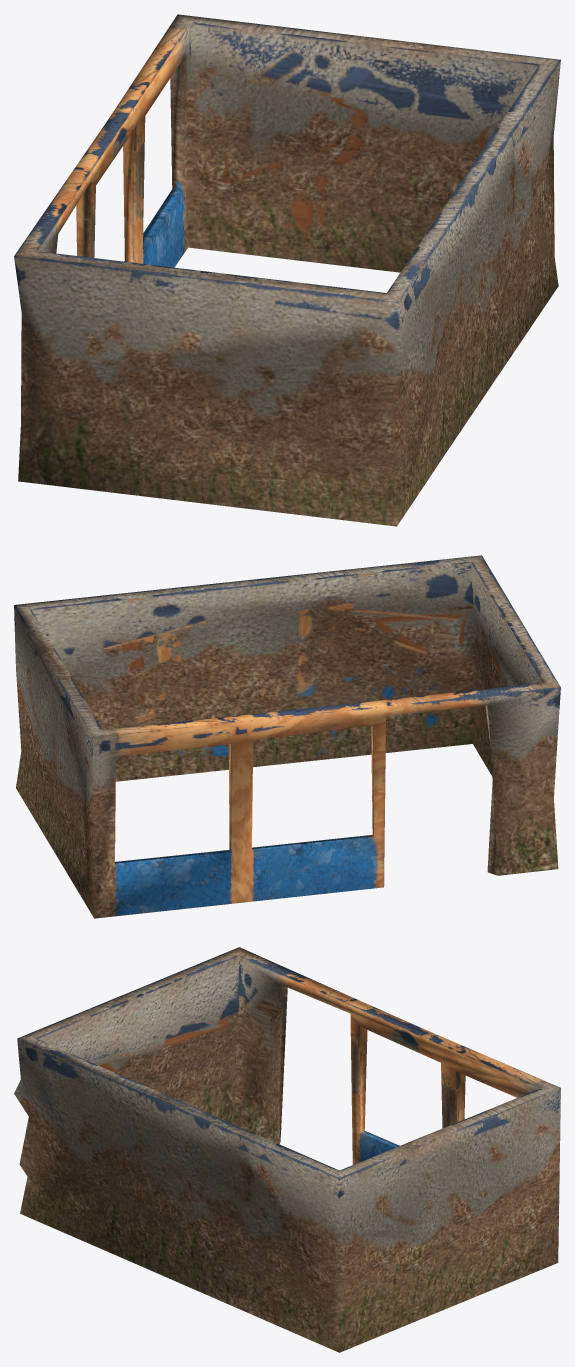
File: newCabinaParedes.fbx
3 renders of one model, top to bottom at view 1: azimuth 30°, elevation 25°; view 2: azimuth 150°, elevation 25°; view 3: azimuth 270°, elevation 25°, orthographic. The views are drawn at different scales.
Parts seen in each view (by area): view 1: newcabinaParedes; view 2: newcabinaParedes; view 3: newcabinaParedes.
Part boxes in pixels (<box>): newcabinaParedes: <box>14,14,560,526</box>; newcabinaParedes: <box>14,555,560,918</box>; newcabinaParedes: <box>14,947,560,1352</box>.
Size of the model in its own units: 281 by 99.24 by 281.
